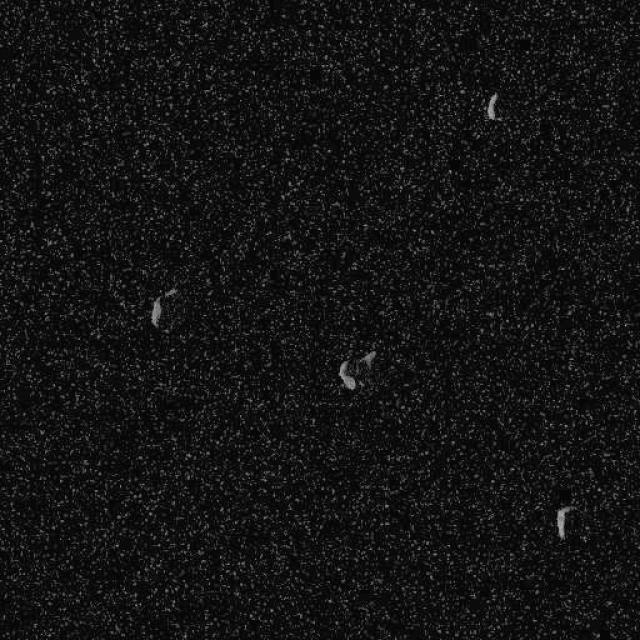D2: (336, 349, 376, 390), (148, 286, 178, 329), (555, 504, 576, 540), (485, 91, 500, 120)
